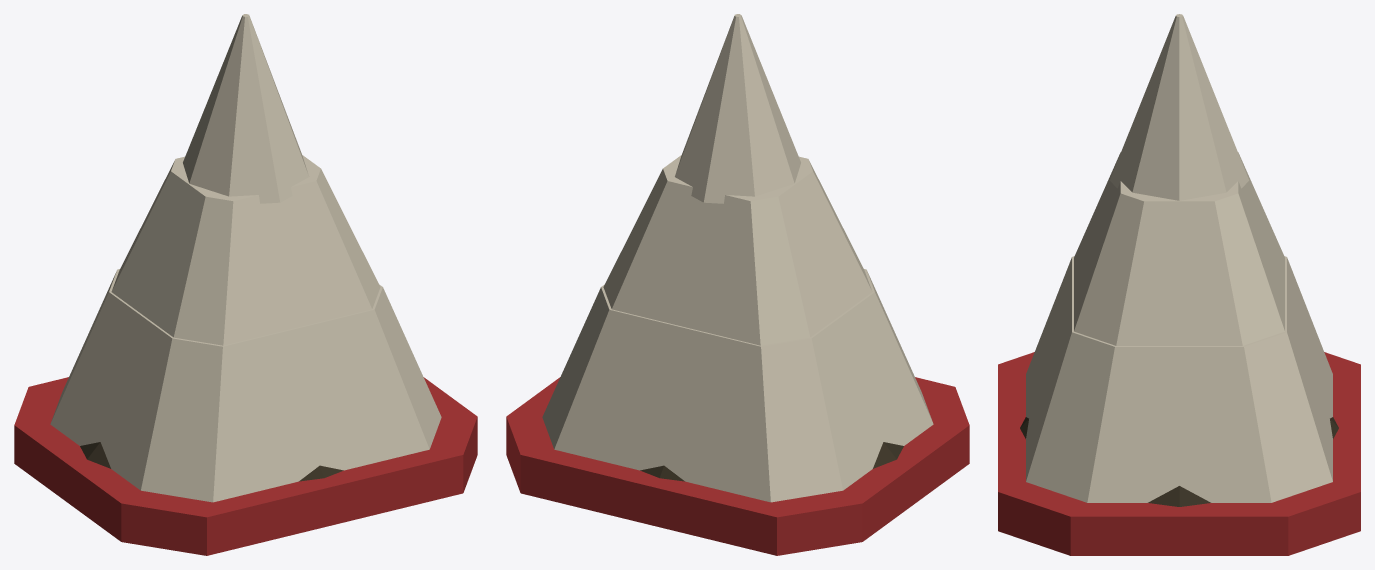
File: dunce.glb
The picture shows the model from 3 angles, left to right: view 1: azimuth 30°, elevation 25°; view 2: azimuth 150°, elevation 25°; view 3: azimuth 270°, elevation 25°; orthographic projection.
Parts seen in each view (by area): view 1: Dunce Cone.002; view 2: Dunce Cone.002; view 3: Dunce Cone.002.
Part boxes in pixels (x1,y1,x2,y2): Dunce Cone.002: [14, 14, 477, 555]; Dunce Cone.002: [506, 14, 969, 555]; Dunce Cone.002: [998, 14, 1360, 555].
Size of the model in its own units: 0.594 by 0.7072 by 0.5148.
